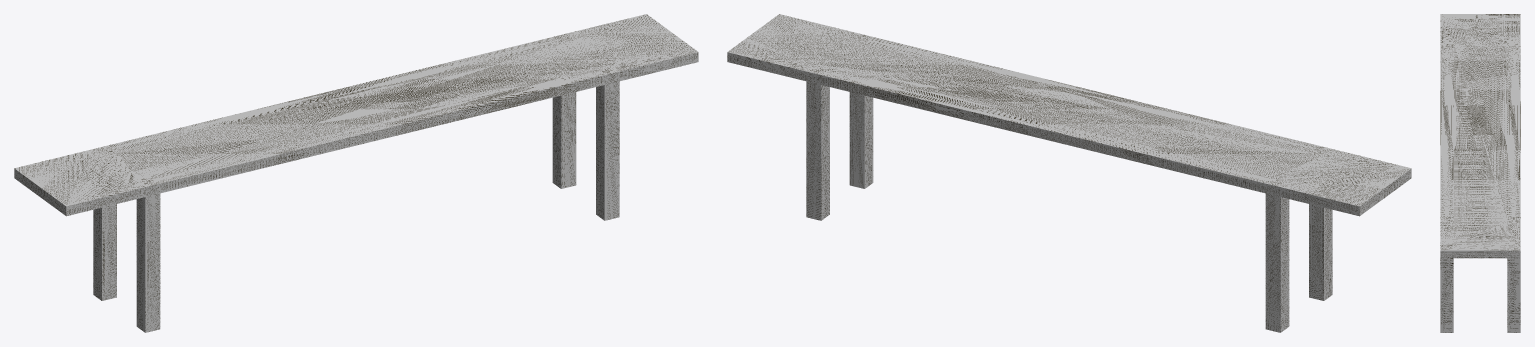
3 renders of one model, left to right at view 1: azimuth 30°, elevation 25°; view 2: azimuth 150°, elevation 25°; view 3: azimuth 270°, elevation 25°, orthographic. The views are drawn at different scales.
Visible parts, largest first — view 1: mesh1_mesh1-geometry; view 2: mesh1_mesh1-geometry; view 3: mesh1_mesh1-geometry.
Boxes of the visible parts, box(x1,y1,x2,y2) form: mesh1_mesh1-geometry: box(14, 14, 698, 332); mesh1_mesh1-geometry: box(727, 14, 1411, 332); mesh1_mesh1-geometry: box(1440, 14, 1520, 332).
Size of the model in its own units: 0.9672 by 0.213 by 0.1382.
